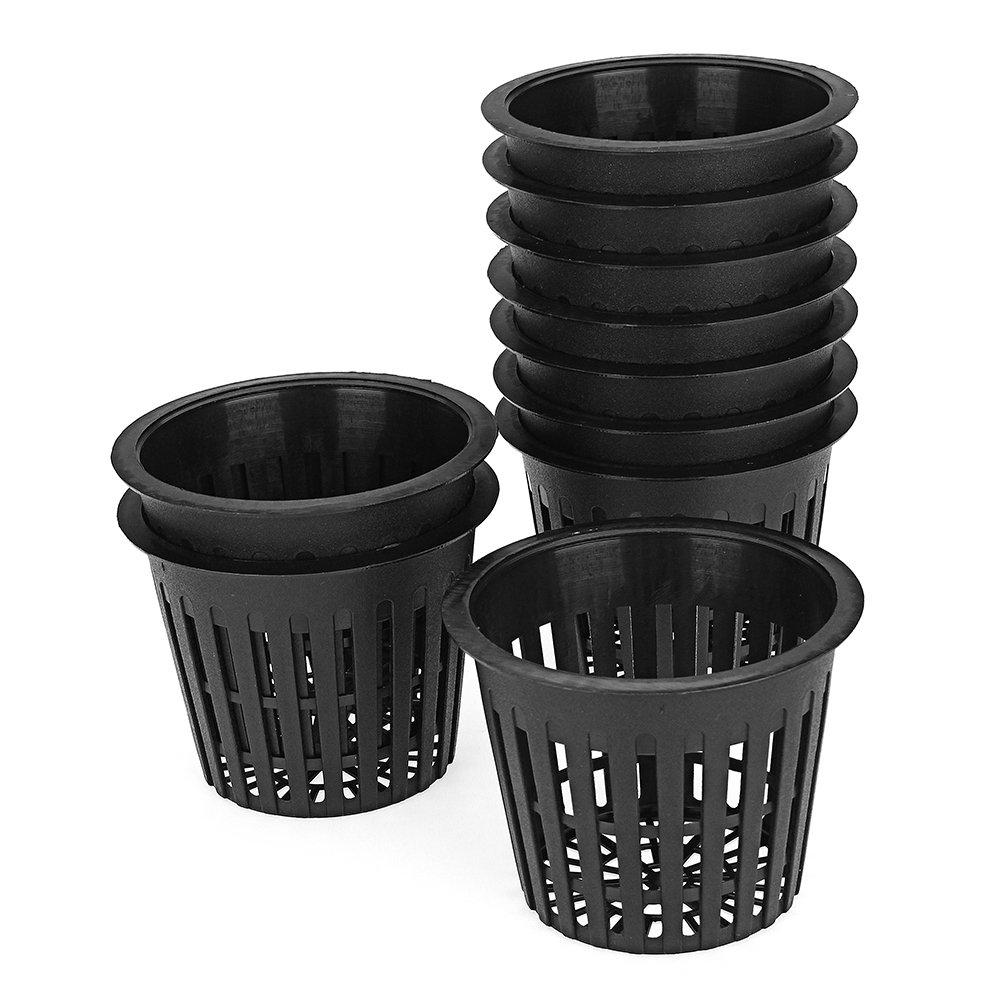basket: (461, 522, 877, 961), (115, 487, 501, 831), (494, 403, 866, 570)
